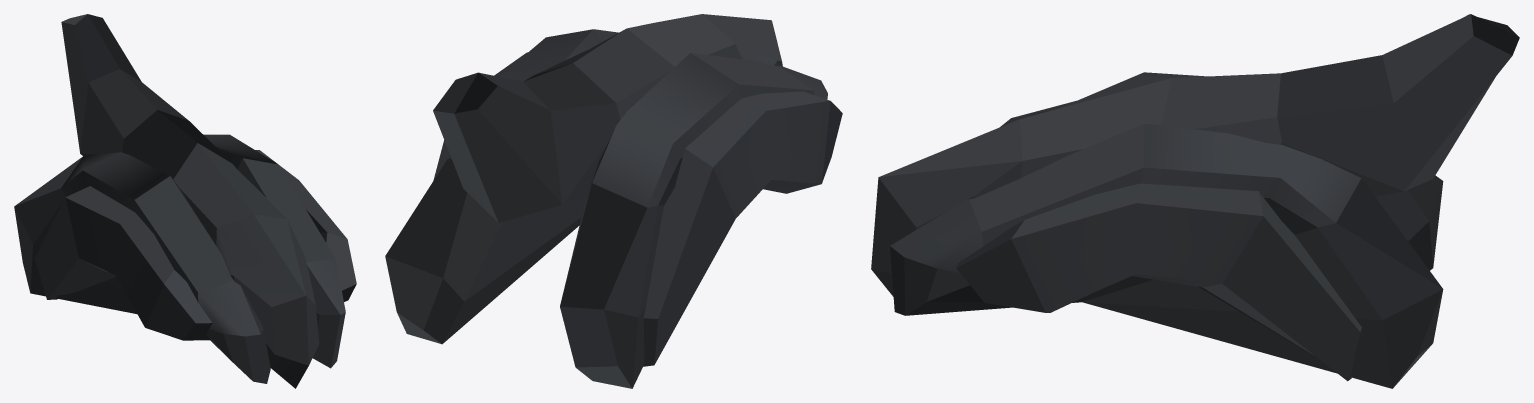
The model's file is SM_Chr_Attach_Hair_Rows_01.fbx.
3 views of the same model, side by side, from view 1: azimuth 30°, elevation 25°; view 2: azimuth 150°, elevation 25°; view 3: azimuth 270°, elevation 25° (orthographic). The views are drawn at different scales.
Parts seen in each view (by area): view 1: SM_Chr_Attach_Hair_Rows_01; view 2: SM_Chr_Attach_Hair_Rows_01; view 3: SM_Chr_Attach_Hair_Rows_01.
Part boxes in pixels (<box>): SM_Chr_Attach_Hair_Rows_01: <box>14,14,356,388</box>; SM_Chr_Attach_Hair_Rows_01: <box>385,14,842,388</box>; SM_Chr_Attach_Hair_Rows_01: <box>871,14,1519,388</box>.
Bounding box in the file's own units: 14.95 × 17.12 × 31.41.
